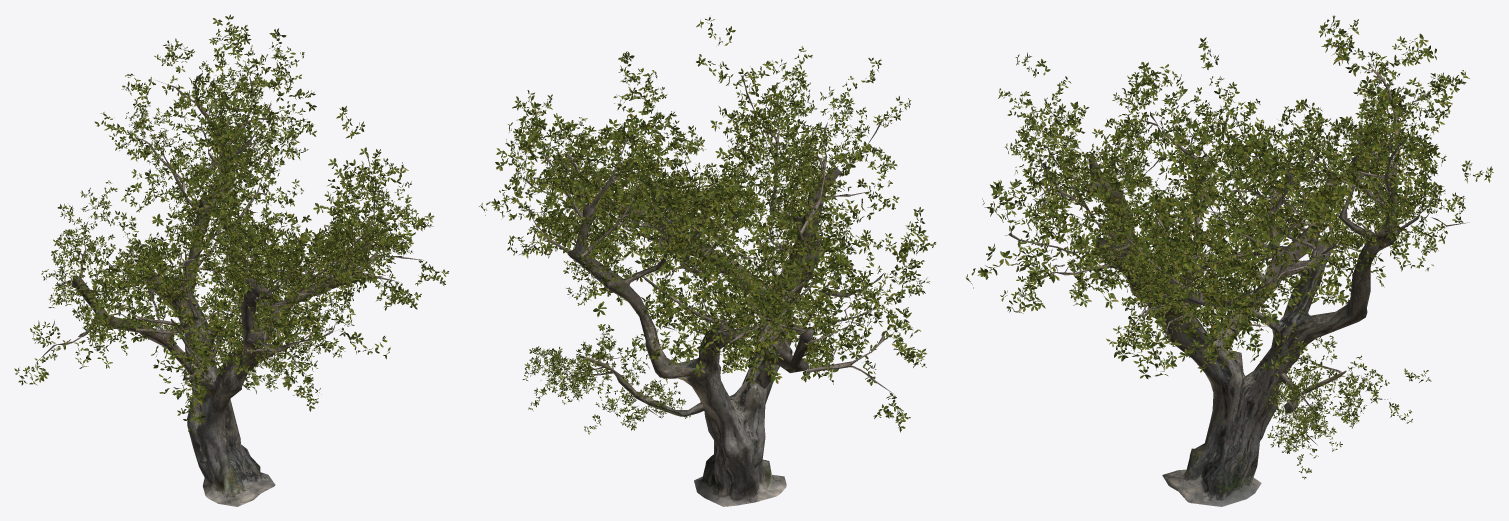
File: island_tree_01-far.glb
3 renders of one model, left to right at view 1: azimuth 30°, elevation 25°; view 2: azimuth 150°, elevation 25°; view 3: azimuth 270°, elevation 25°, orthographic. The views are drawn at different scales.
Visible parts, largest first — view 1: island_tree_01_LOD0; view 2: island_tree_01_LOD0; view 3: island_tree_01_LOD0.
Boxes of the visible parts, left/top/right/bottom form: island_tree_01_LOD0: left=14, top=14, right=448, bottom=506; island_tree_01_LOD0: left=479, top=17, right=936, bottom=506; island_tree_01_LOD0: left=965, top=15, right=1493, bottom=506.
Bounding box in the file's own units: 4.75 × 5.02 × 4.8.
Materials: 3 (3 with a texture image).
